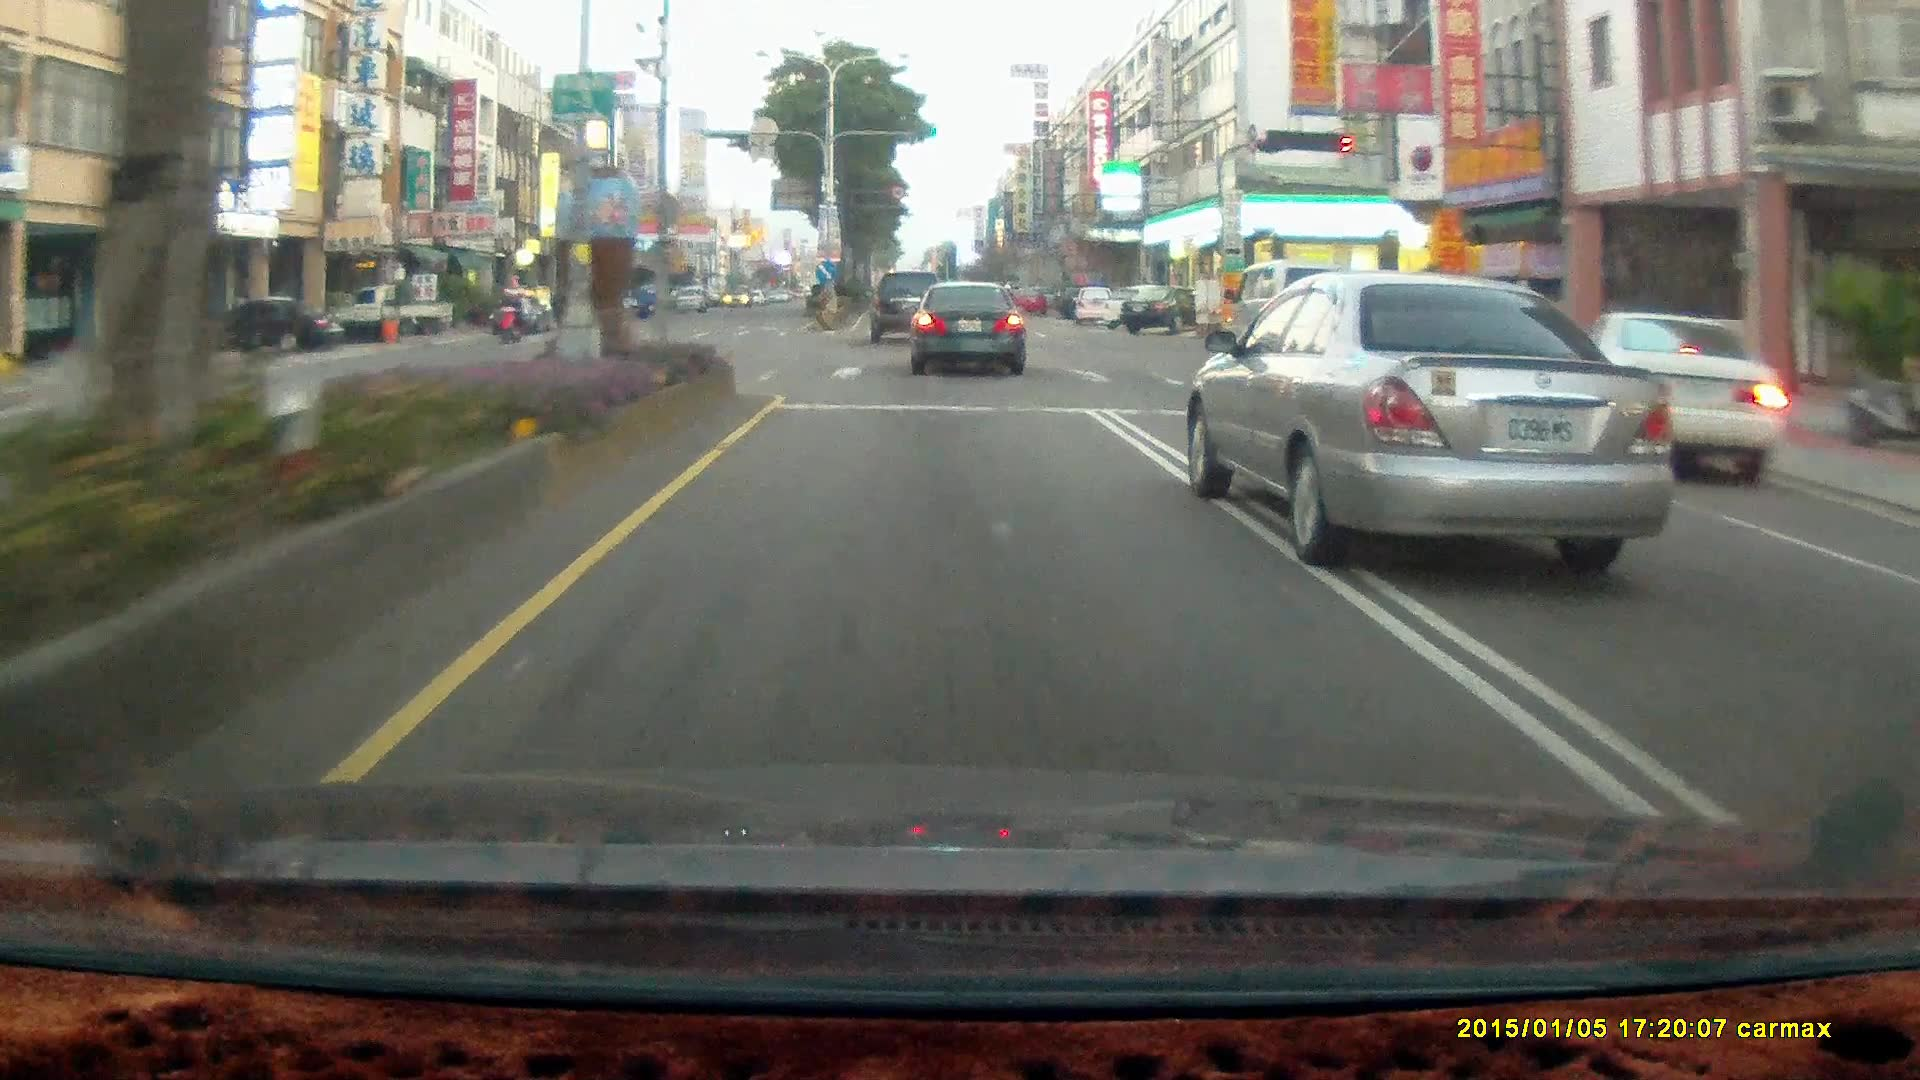rider: (496, 290, 528, 342)
vehicle: (1184, 272, 1683, 570), (1559, 309, 1787, 481), (1559, 308, 1786, 480), (1233, 265, 1388, 377), (1224, 260, 1378, 371), (908, 282, 1030, 381), (908, 280, 1024, 375), (180, 300, 336, 355), (222, 299, 345, 360), (343, 288, 458, 349), (330, 282, 452, 337), (869, 270, 948, 347), (872, 271, 948, 343), (1121, 283, 1209, 332), (1121, 286, 1189, 339), (1100, 288, 1154, 328), (490, 300, 551, 335), (1070, 285, 1119, 326), (591, 295, 630, 323), (638, 287, 666, 314), (672, 286, 703, 309)
